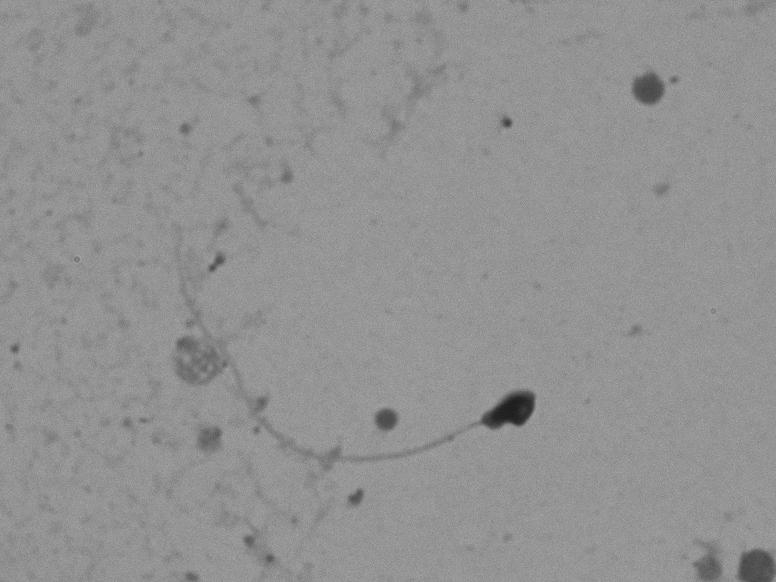Abnormal: (160, 197, 592, 500)
